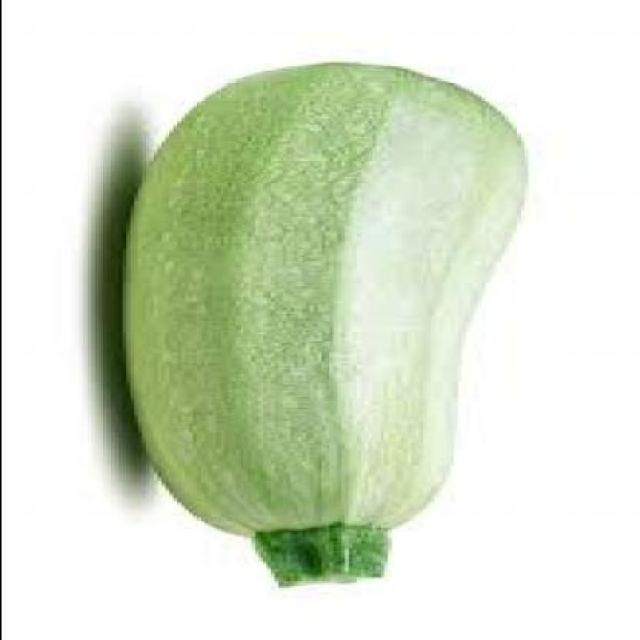BIODEGRADABLE: (124, 60, 530, 586)
